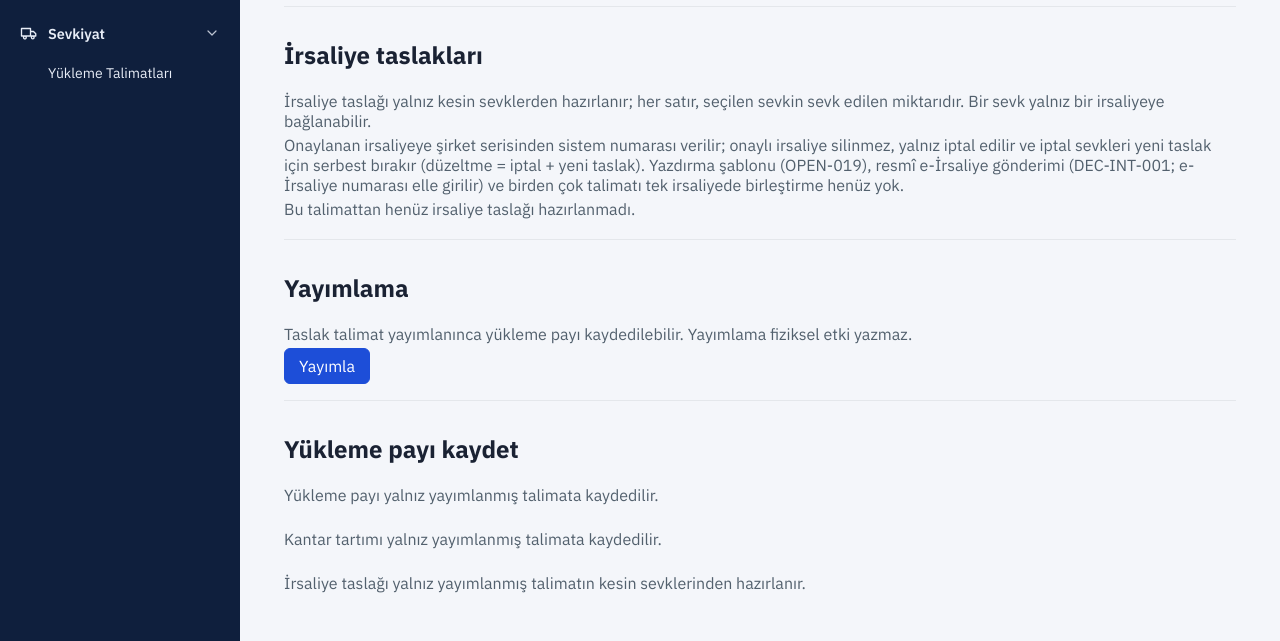
Test: L-02-DETAIL › issues the Draft with the expected version under one key and re-reads the detail
The image size is (1280, 641).
(page scrolled)
Click the button with test id "logistics-issue-button" at (327, 366), box [284, 348, 370, 384]
(page scrolled)
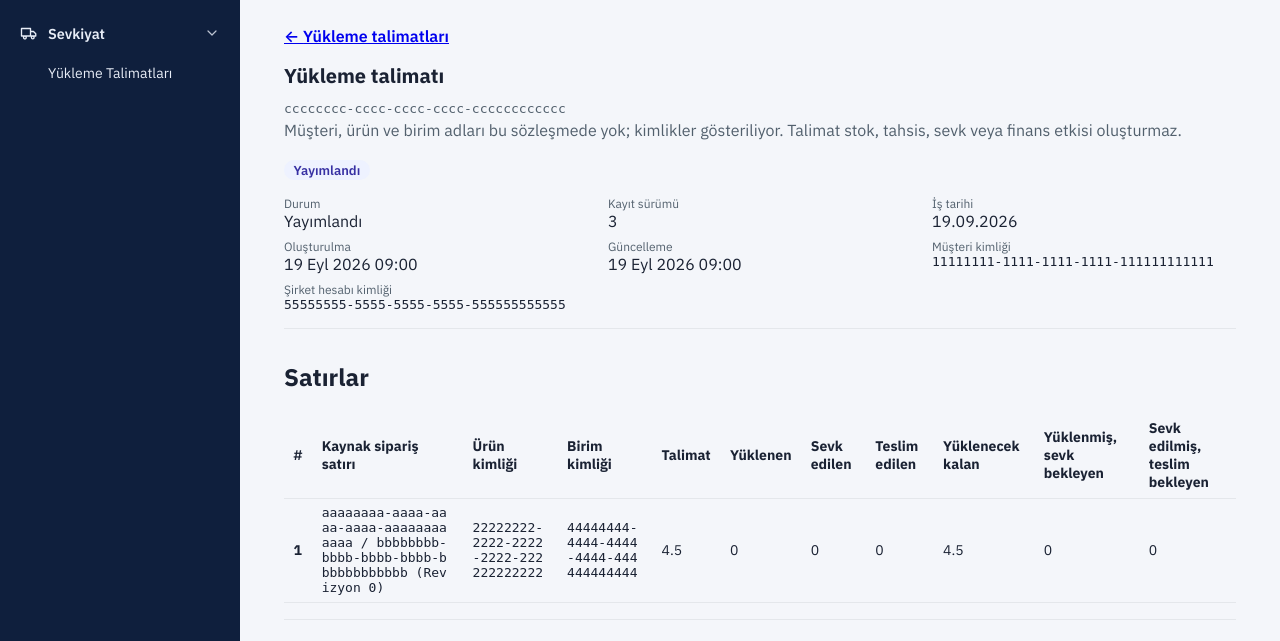
Now the text with test id "logistics-instruction-status" reads "Yayımlandı", box [294, 162, 360, 179]
